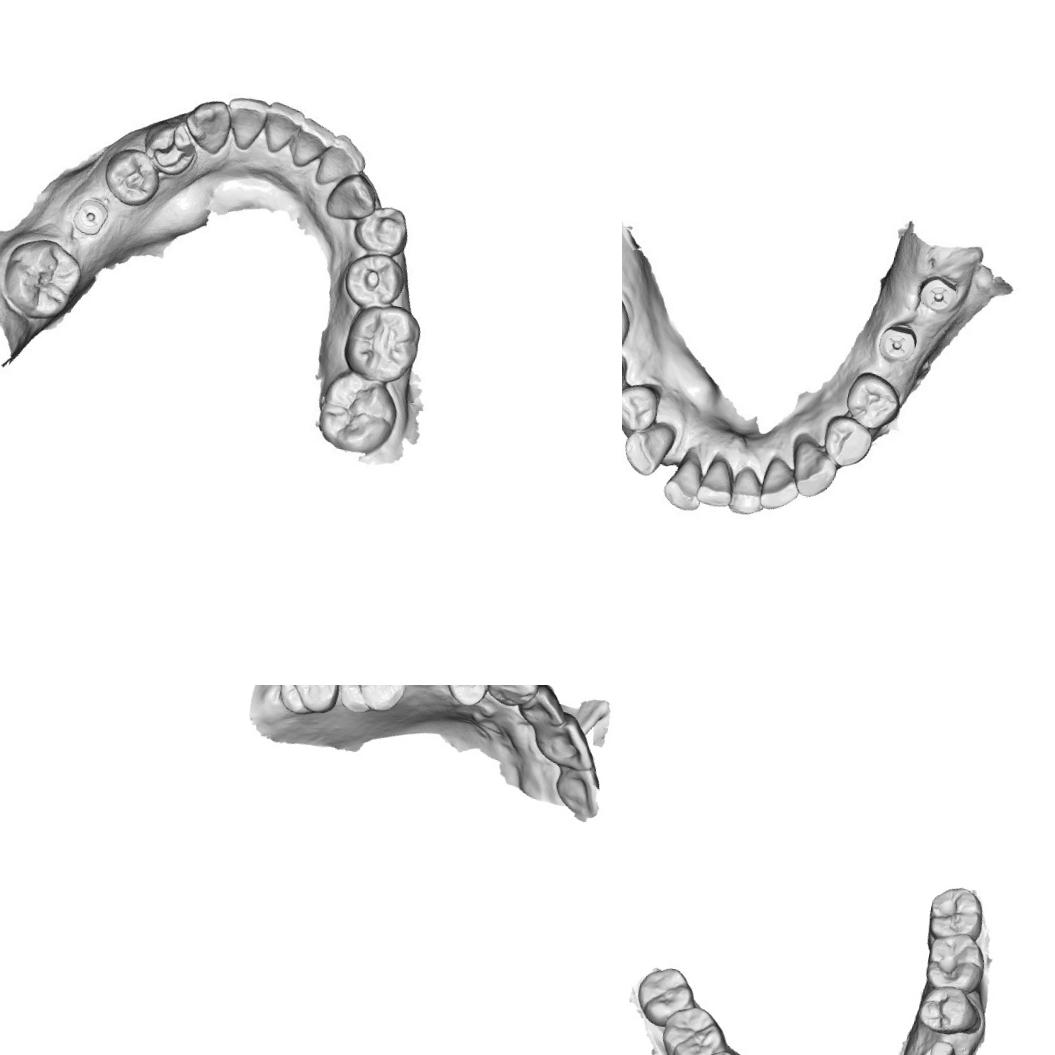abutment: (924, 1037, 963, 1055)
canine: (783, 433, 842, 502), (622, 415, 678, 482), (324, 168, 382, 227), (182, 94, 235, 156), (481, 685, 543, 711)
implant_minus: (68, 193, 113, 240)
implant_plus: (868, 313, 924, 376), (910, 266, 964, 324)
incisor: (532, 708, 606, 776), (545, 759, 606, 820), (310, 128, 370, 190), (220, 88, 270, 153), (255, 98, 306, 158), (282, 114, 332, 173), (664, 448, 711, 510), (514, 685, 571, 734), (757, 456, 802, 513), (724, 462, 771, 514), (700, 450, 741, 506)
inlay: (148, 118, 200, 174)
molar: (310, 366, 404, 460), (336, 297, 427, 387), (0, 231, 87, 325), (919, 926, 990, 996), (631, 961, 699, 1032), (923, 880, 989, 947), (653, 999, 730, 1055), (331, 685, 415, 723), (270, 685, 346, 723)
premolar: (838, 366, 906, 434), (337, 248, 408, 312), (96, 144, 164, 210), (816, 408, 878, 473), (914, 981, 982, 1040), (350, 198, 412, 260), (622, 375, 664, 438), (435, 685, 496, 711)
